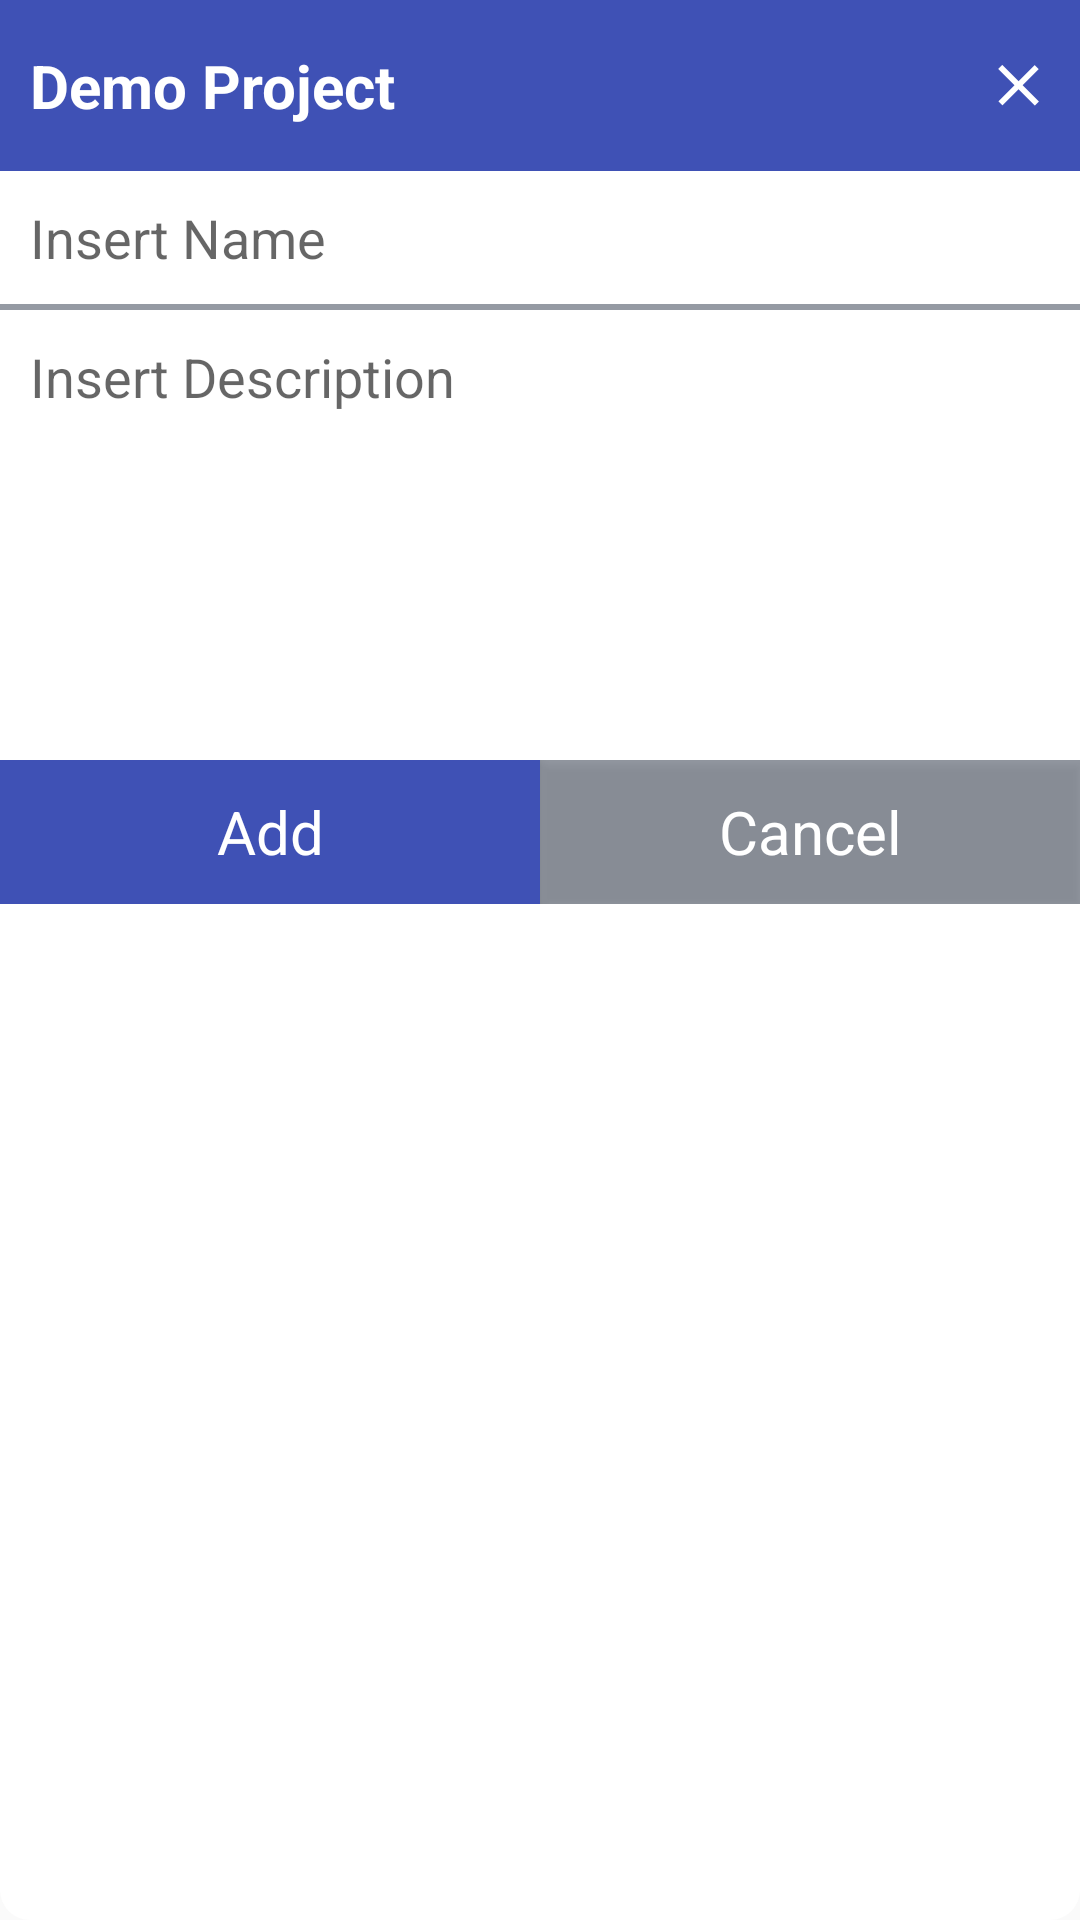

Where icons sit on this 1080 x 1920 app screen, as (x1=x1, y1=y1, x2=x2, y2=y2):
close: (x1=998, y1=65, x2=1039, y2=106)
